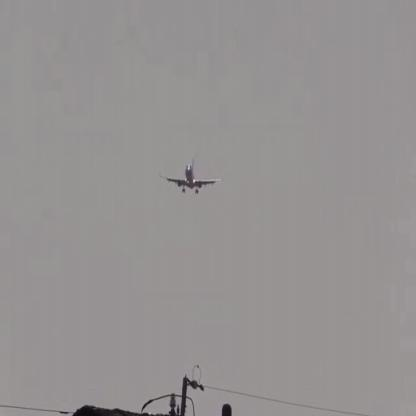CIV_Plane: (158, 159, 224, 194)
